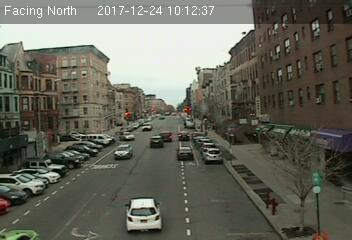car: (125, 196, 162, 231), (113, 143, 134, 160), (204, 146, 222, 162), (175, 147, 193, 160), (150, 135, 163, 147), (160, 132, 172, 142), (178, 131, 189, 140)
